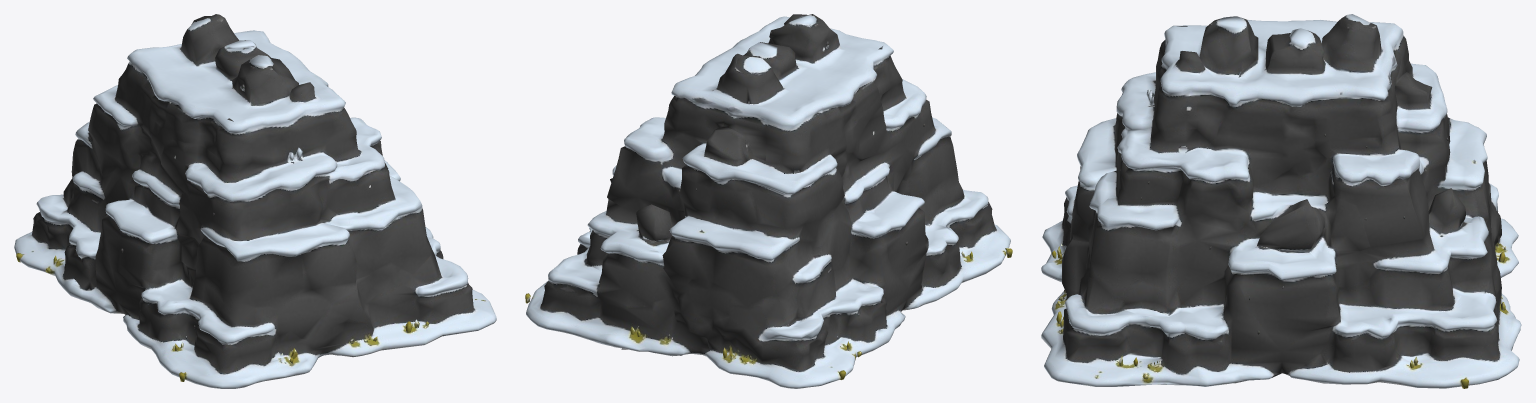
Rendered from shitou-kuangshan.fbx.
3 renders of one model, left to right at view 1: azimuth 30°, elevation 25°; view 2: azimuth 150°, elevation 25°; view 3: azimuth 270°, elevation 25°, orthographic. The views are drawn at different scales.
Parts seen in each view (by area): view 1: tripo_node_1b7d5c2a; view 2: tripo_node_1b7d5c2a; view 3: tripo_node_1b7d5c2a.
Boxes of the visible parts, x1,y1,x2,y2 form: tripo_node_1b7d5c2a: (14, 14, 496, 388); tripo_node_1b7d5c2a: (525, 14, 1012, 388); tripo_node_1b7d5c2a: (1041, 14, 1521, 388).
Bounding box in the file's own units: 0.8513 × 0.6458 × 1.
Materials: 1 (1 with a texture image).
